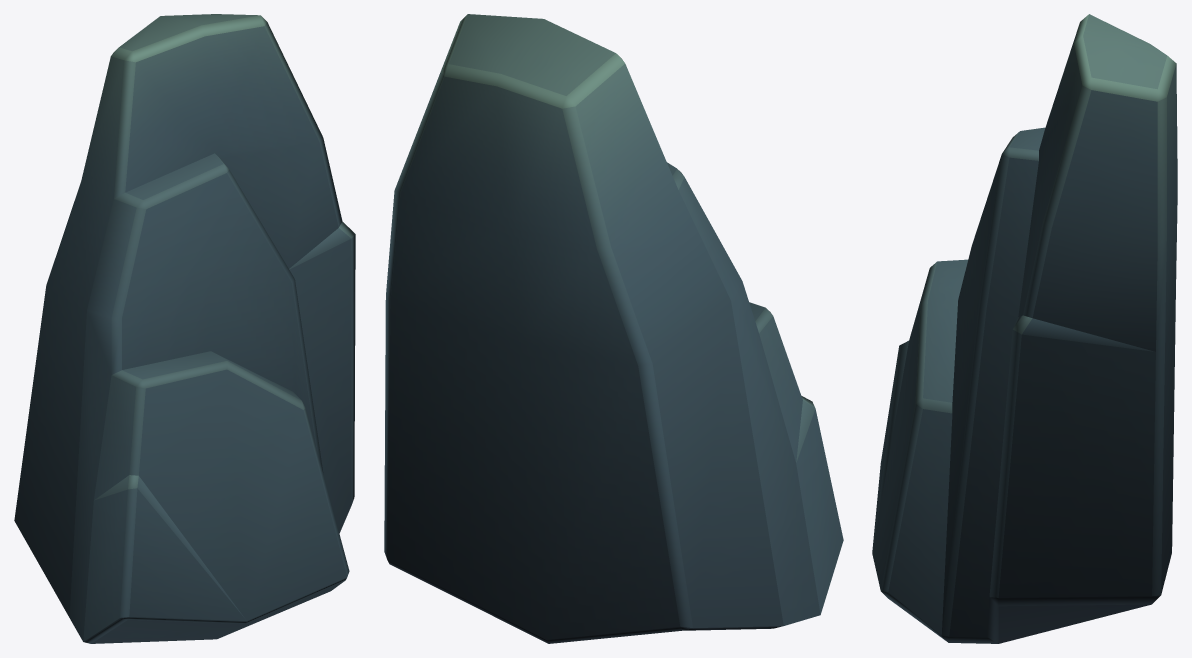
File: rock_31.fbx
3 views of the same model, side by side, from view 1: azimuth 30°, elevation 25°; view 2: azimuth 150°, elevation 25°; view 3: azimuth 270°, elevation 25° (orthographic). The views are drawn at different scales.
Visible parts, largest first — view 1: rock_31; view 2: rock_31; view 3: rock_31.
Part boxes in pixels (box(x1,y1,x2,y2)): rock_31: box(14, 14, 355, 643); rock_31: box(384, 14, 843, 643); rock_31: box(872, 14, 1177, 643).
Size of the model in its own units: 460 by 798 by 373.
